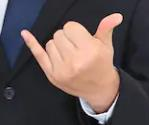clockwise: (16, 12, 125, 89)
